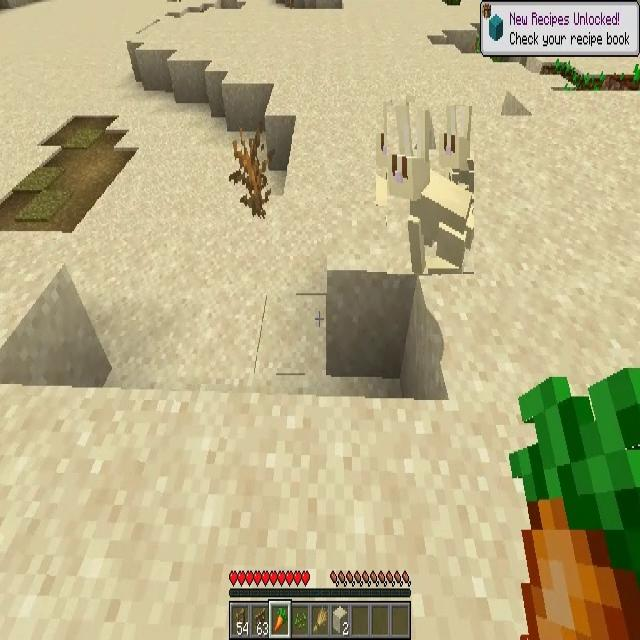rabbit: (387, 106, 474, 274), (376, 102, 422, 206)
